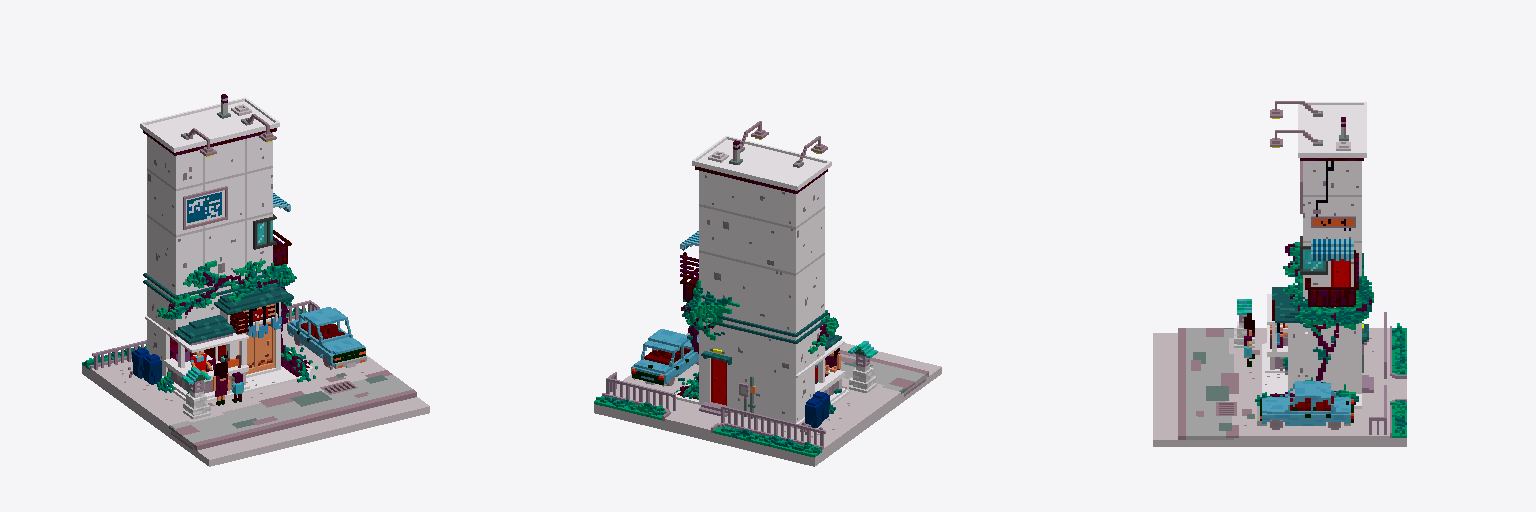
3 views of the same model, side by side, from view 1: azimuth 30°, elevation 25°; view 2: azimuth 150°, elevation 25°; view 3: azimuth 270°, elevation 25° (orthographic).
Visible parts, largest first — view 1: object 1; view 2: object 1; view 3: object 1.
Boxes of the visible parts, box(x1,y1,x2,y2) form: object 1: box(82, 94, 429, 466); object 1: box(594, 121, 941, 466); object 1: box(1153, 101, 1406, 446).
Size of the model in its own units: 10 by 11.9 by 10.
1 materials, 1 textured.